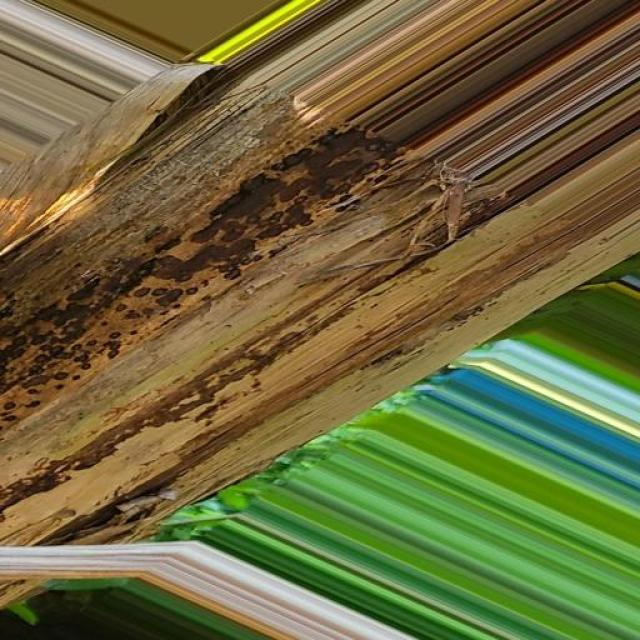Anthracnose: (9, 8, 640, 540)
